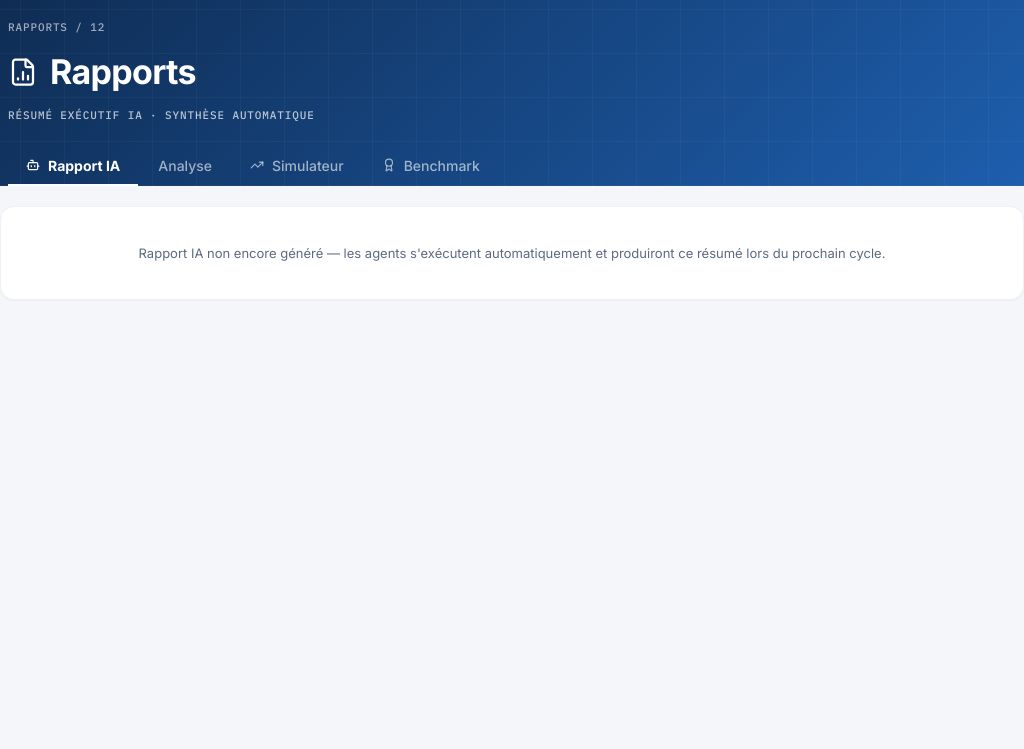
Test: RapportsPage → Analyse — agrégats corrects › Analyse regroupée : les 4 vues sont présentes et une autre vue est atteignable
Click the button "Analyse".
click(185, 166)  # box x1=140 y1=147 x2=230 y2=186
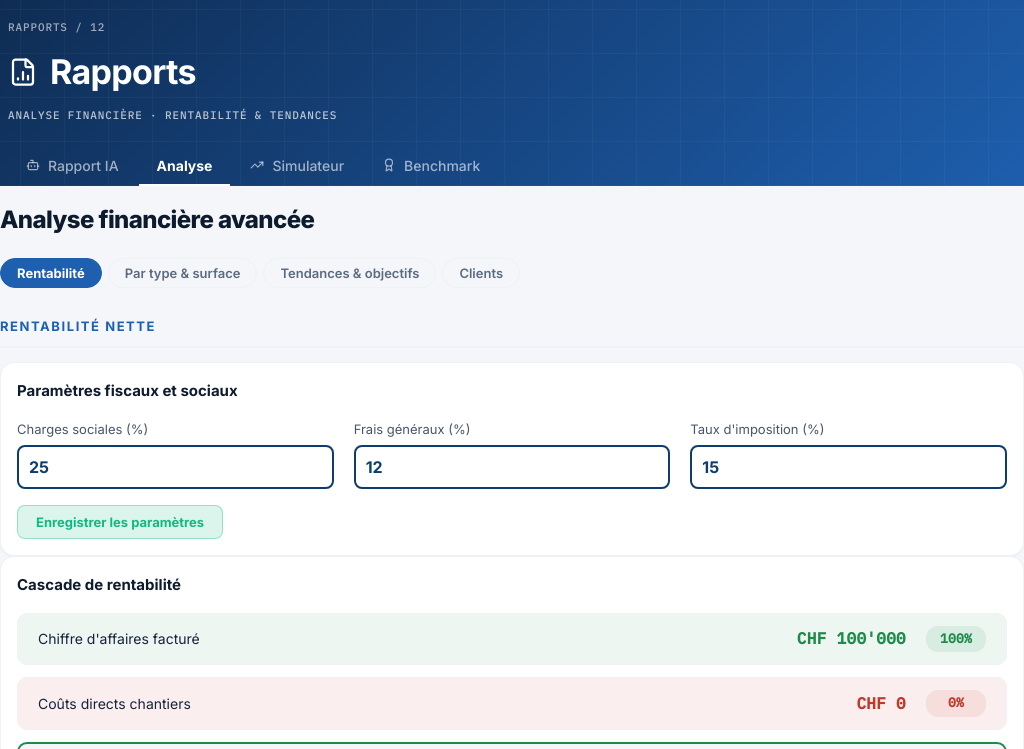
Now the button "Rentabilité" is shown, box x1=0 y1=258 x2=102 y2=288
Now the button "Par type & surface" is shown, box x1=108 y1=258 x2=257 y2=288
Now the button "Tendances & objectifs" is shown
// Naviguer vers « Tendances & objectifs » → ses contenus deviennent atteignables
Click the button "Tendances & objectifs".
click(350, 273)  # box x1=263 y1=258 x2=436 y2=288
(page scrolled)
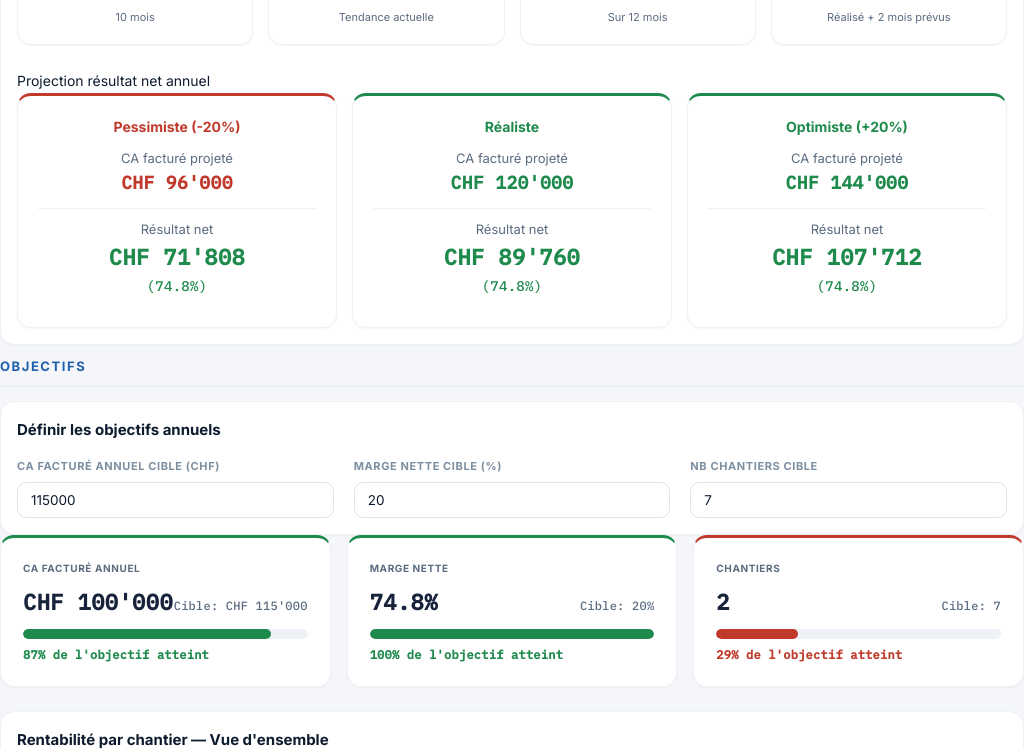
Now the text "Objectifs" is shown, box x1=0 y1=358 x2=86 y2=374
